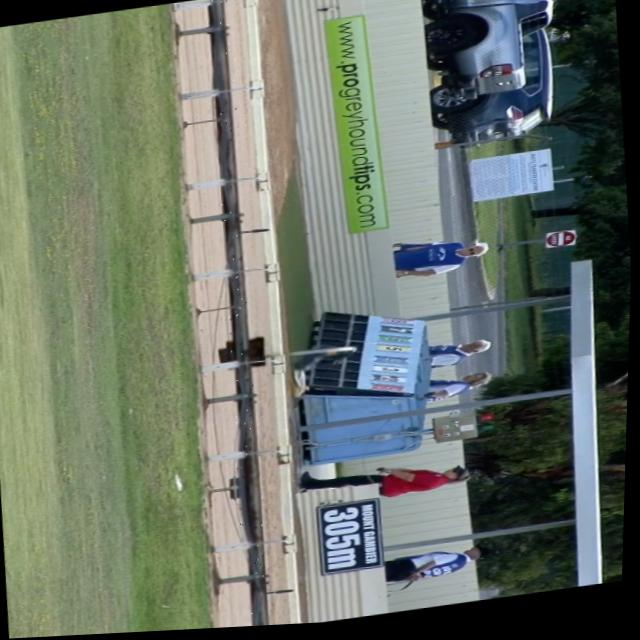rail: (208, 0, 270, 629)
